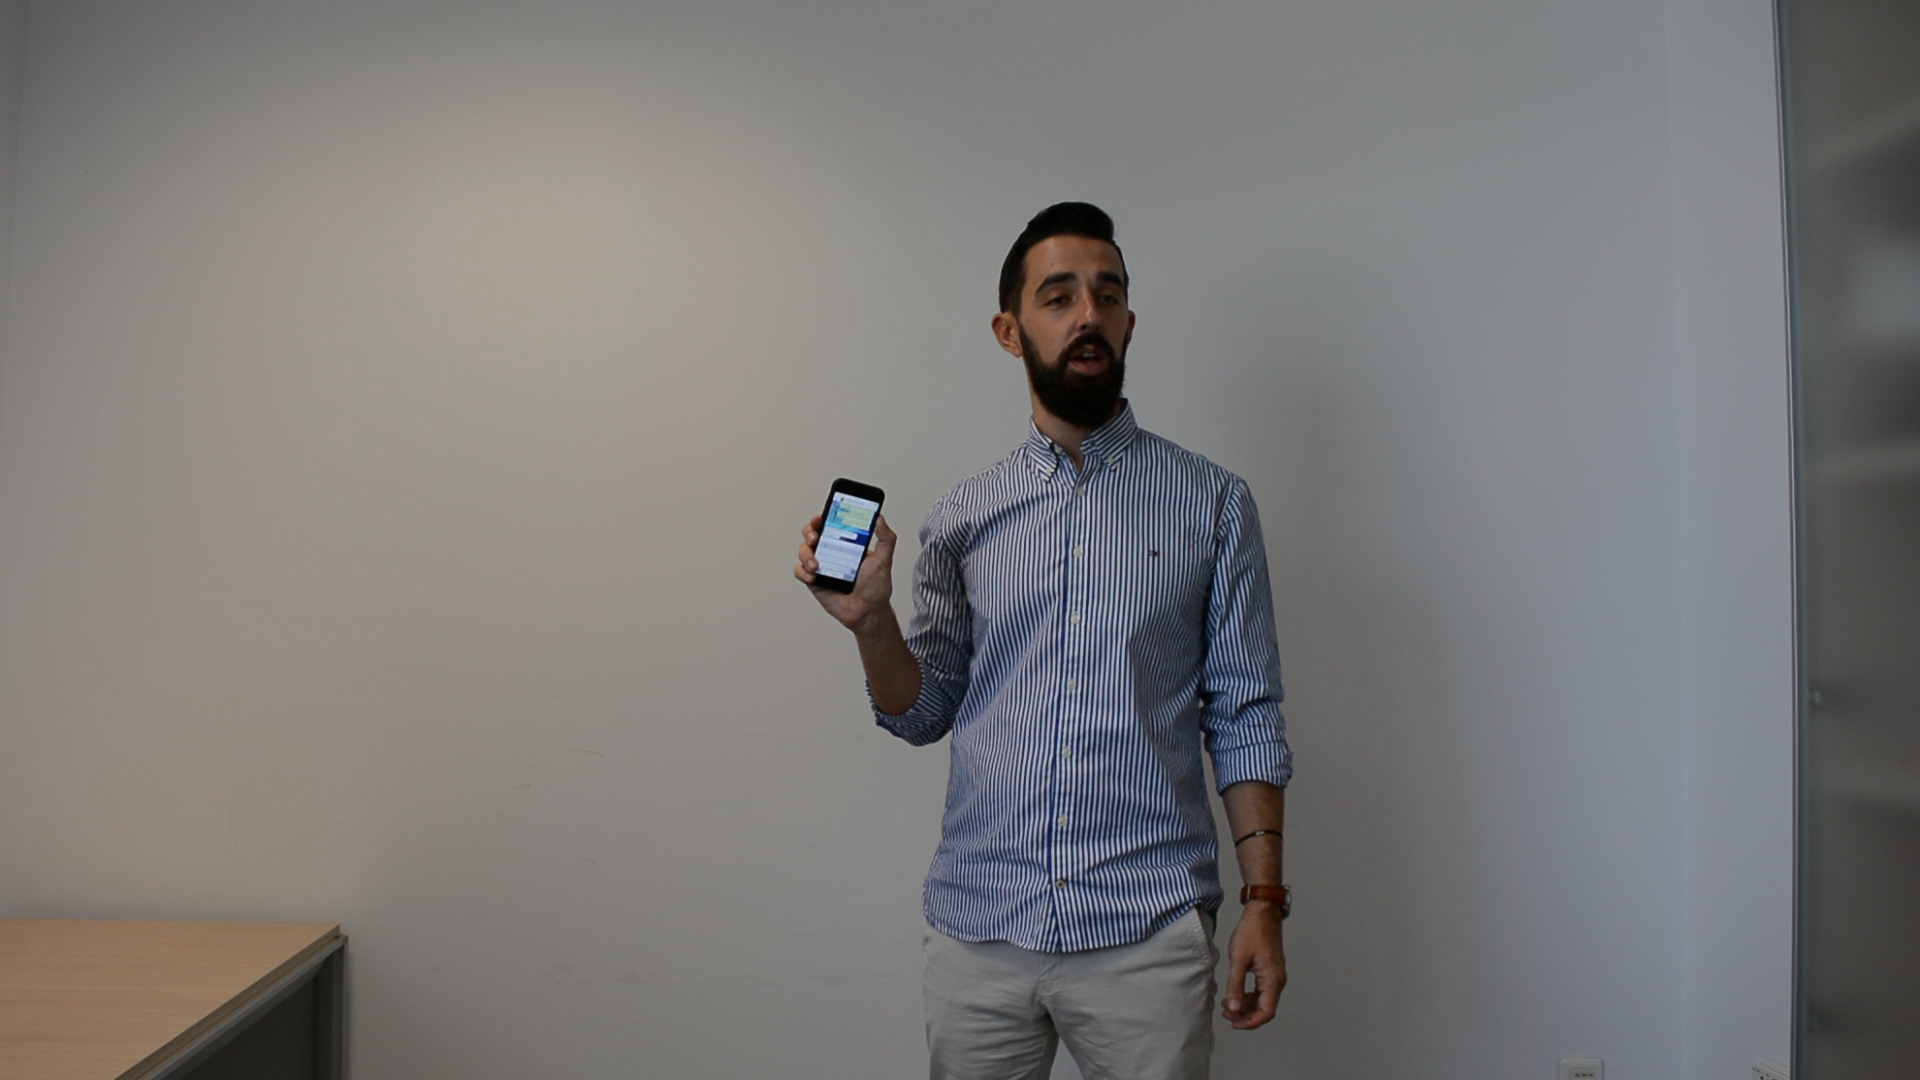smartphone: (799, 475, 887, 596)
